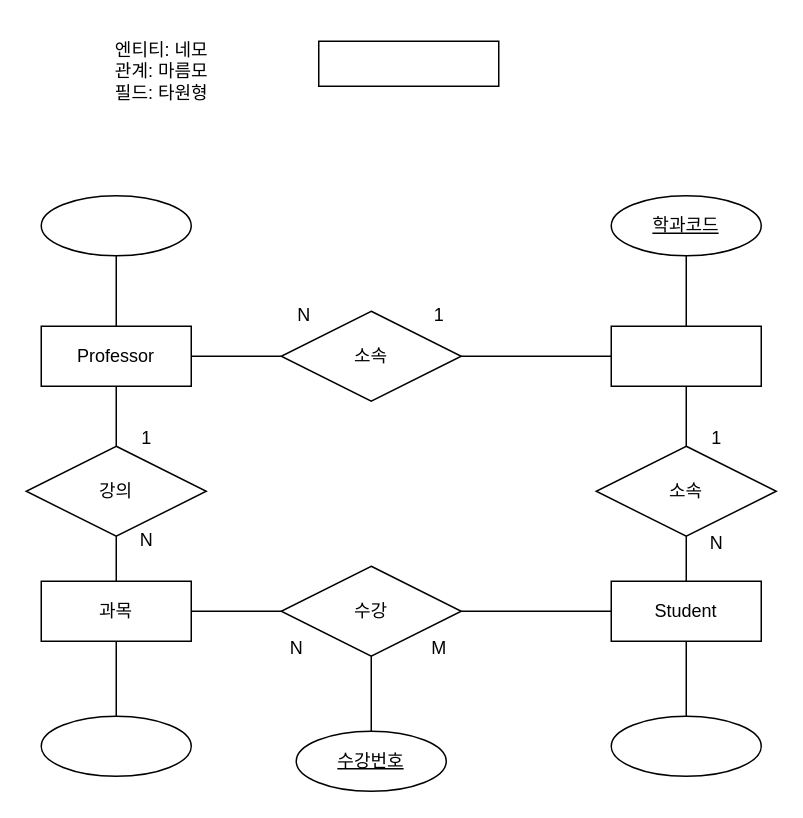
Image size: 803x818. Some labels were removed from this diagram. The centre of each missing label's shape, as x and y in pixels:
"개념적 모델링" goes at pixel 408 63.
"과목코드" goes at pixel 115 745.
"교수코드" goes at pixel 115 225.
"학과" goes at pixel 685 355.
"학번" goes at pixel 685 745.
